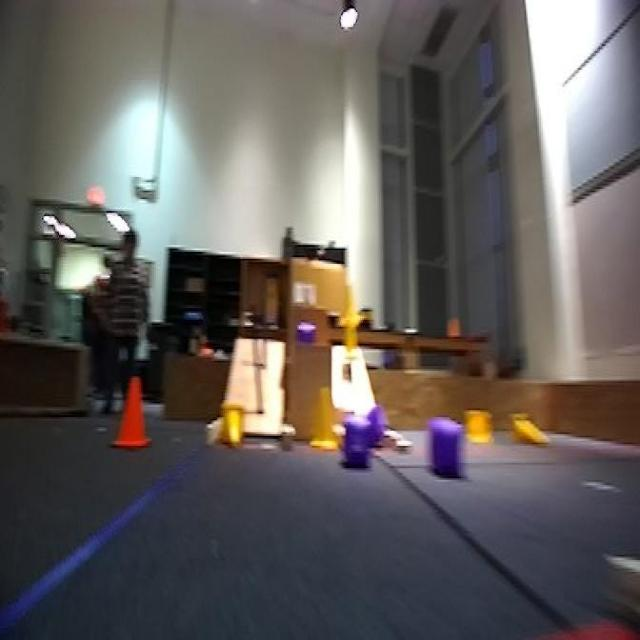frc_cone: (310, 383, 345, 454), (508, 412, 546, 449), (216, 404, 247, 449), (463, 403, 491, 448), (340, 313, 364, 364), (345, 279, 360, 332)
frc_cube: (428, 425, 466, 475), (336, 416, 370, 462), (365, 405, 381, 444), (296, 328, 314, 346)
